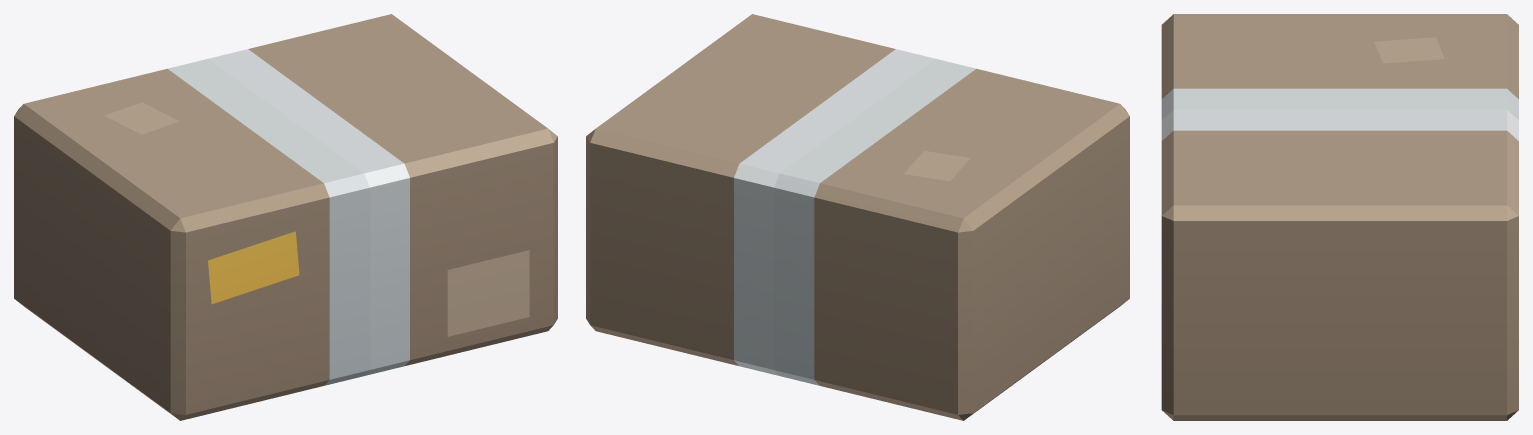
The model's file is kaykit-proto-Box_C.glb.
The picture shows the model from 3 angles, left to right: view 1: azimuth 30°, elevation 25°; view 2: azimuth 150°, elevation 25°; view 3: azimuth 270°, elevation 25°; orthographic projection. The views are drawn at different scales.
Visible parts, largest first — view 1: Box_C; view 2: Box_C; view 3: Box_C.
Boxes of the visible parts, x1=… form: Box_C: x1=14, y1=14, x2=557, y2=420; Box_C: x1=586, y1=14, x2=1129, y2=420; Box_C: x1=1161, y1=14, x2=1518, y2=420.
Bounding box in the file's own units: 0.8 × 0.4022 × 0.6062.
1 material, 1 textured.
